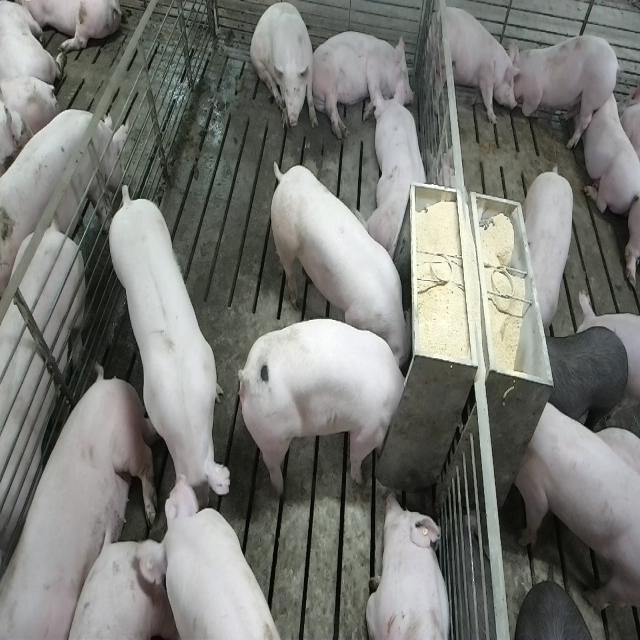Feeding: (235, 317, 409, 494), (264, 159, 412, 365)
Lateral_lying: (3, 367, 158, 640), (309, 29, 415, 141)
Sitting: (251, 4, 315, 136)
Standing: (104, 186, 229, 522), (0, 218, 90, 572), (515, 394, 638, 615), (140, 478, 289, 640), (0, 104, 122, 296), (510, 29, 620, 150), (430, 1, 520, 132), (524, 161, 578, 331), (544, 325, 628, 430)
Sternal_lying: (366, 489, 453, 640), (367, 86, 431, 264), (582, 78, 638, 215)
